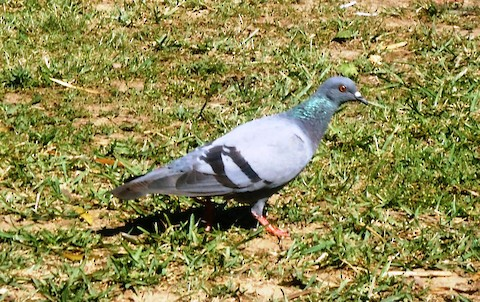pigeon: (98, 66, 373, 238)
